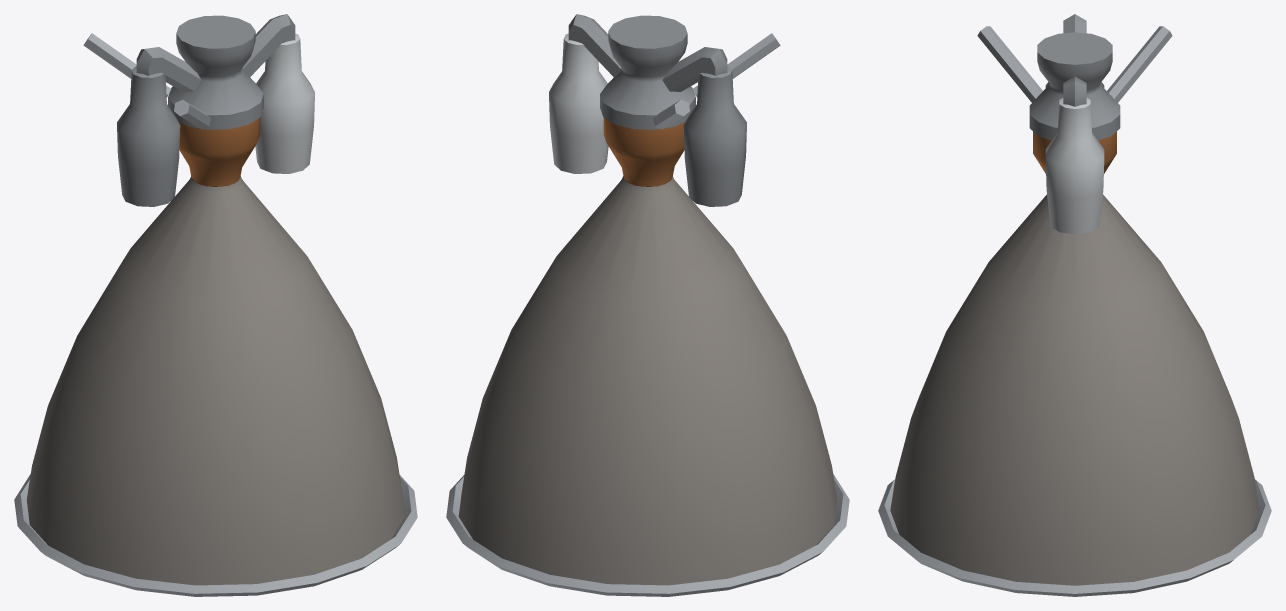
Rendered from engine_s_lod_vac.glb.
3 renders of one model, left to right at view 1: azimuth 30°, elevation 25°; view 2: azimuth 150°, elevation 25°; view 3: azimuth 270°, elevation 25°, orthographic. The views are drawn at different scales.
Visible parts, largest first — view 1: engine_lod; view 2: engine_lod; view 3: engine_lod.
Boxes of the visible parts, x1,y1,x2,y2 form: engine_lod: (14,14,417,596); engine_lod: (446,14,849,596); engine_lod: (878,14,1271,596).
Bounding box in the file's own units: 1.26 × 1.66 × 1.26.
